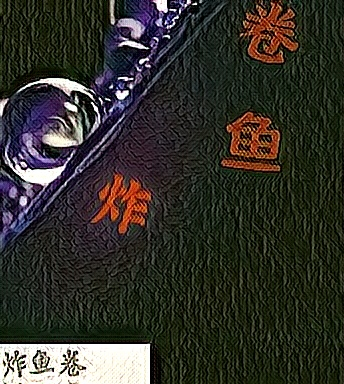BEED: (237, 1, 300, 67)
D3E3: (221, 109, 284, 175)
D5A8: (90, 172, 153, 238)
